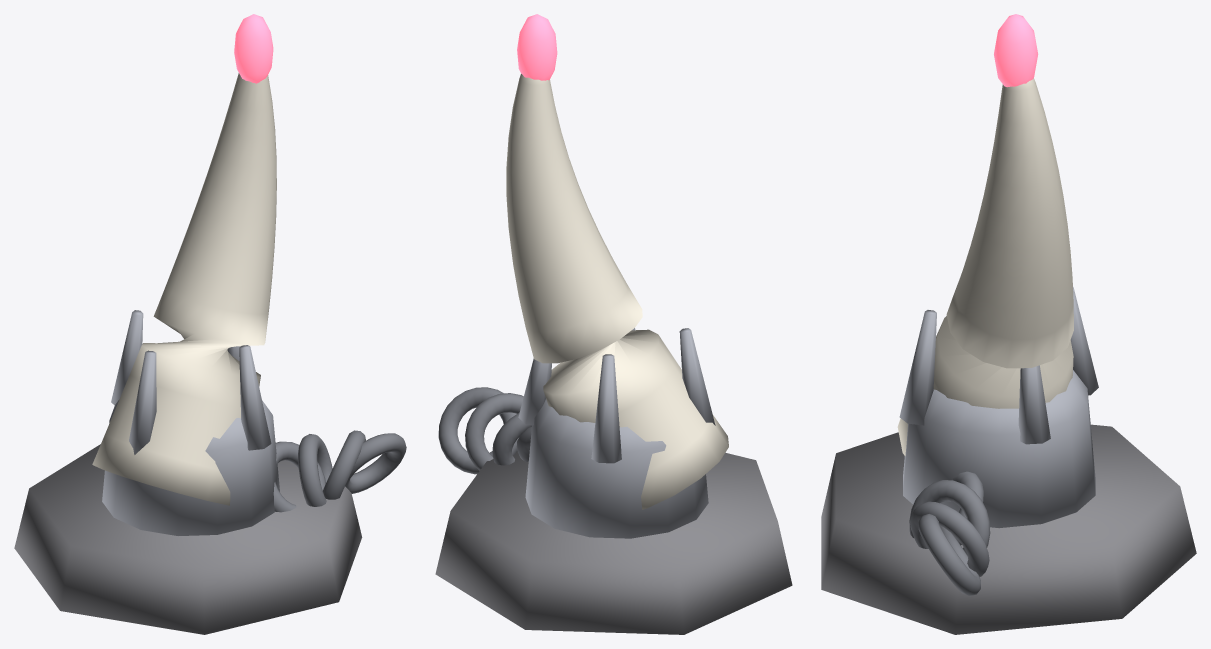
The model's file is REL_FANG.glb.
The picture shows the model from 3 angles, left to right: view 1: azimuth 30°, elevation 25°; view 2: azimuth 150°, elevation 25°; view 3: azimuth 270°, elevation 25°; orthographic projection. The views are drawn at different scales.
Visible parts, largest first — view 1: SlatePlinth, BeastFang, SilverSocket, BloodTip, Chain3, Talon3, Talon2, Chain1, Chain2, Talon1, Chain0; view 2: SlatePlinth, BeastFang, SilverSocket, Talon1, Chain3, BloodTip, Chain2, Talon2, Talon0, Chain1; view 3: SlatePlinth, BeastFang, SilverSocket, BloodTip, Talon3, Chain3, Chain2, Talon0, Chain1, Talon1.
Boxes of the visible parts, <box> form: SlatePlinth: <box>14,444,362,634</box>; BeastFang: <box>92,73,276,505</box>; SilverSocket: <box>102,400,279,535</box>; BloodTip: <box>234,14,273,83</box>; Chain3: <box>345,433,406,493</box>; Talon3: <box>239,345,271,450</box>; Talon2: <box>129,350,156,454</box>; Chain1: <box>298,434,332,506</box>; Chain2: <box>323,430,365,499</box>; Talon1: <box>111,310,143,405</box>; Chain0: <box>273,441,325,512</box>; SlatePlinth: <box>435,451,792,634</box>; BeastFang: <box>506,74,728,509</box>; SilverSocket: <box>525,399,708,538</box>; Talon1: <box>591,354,621,463</box>; Chain3: <box>438,387,518,474</box>; BloodTip: <box>517,14,557,80</box>; Chain2: <box>465,393,523,470</box>; Talon2: <box>679,328,715,425</box>; Talon0: <box>518,358,551,425</box>; Chain1: <box>492,412,531,465</box>; SlatePlinth: <box>821,424,1196,634</box>; BeastFang: <box>897,78,1073,455</box>; SilverSocket: <box>903,370,1095,528</box>; BloodTip: <box>994,14,1038,87</box>; Talon3: <box>899,310,936,425</box>; Chain3: <box>918,514,980,596</box>; Chain2: <box>910,501,989,576</box>; Talon0: <box>1018,365,1050,444</box>; Chain1: <box>909,480,990,555</box>; Talon1: <box>1070,287,1098,395</box>.
Size of the model in its own units: 0.1062 by 0.1548 by 0.0912.
